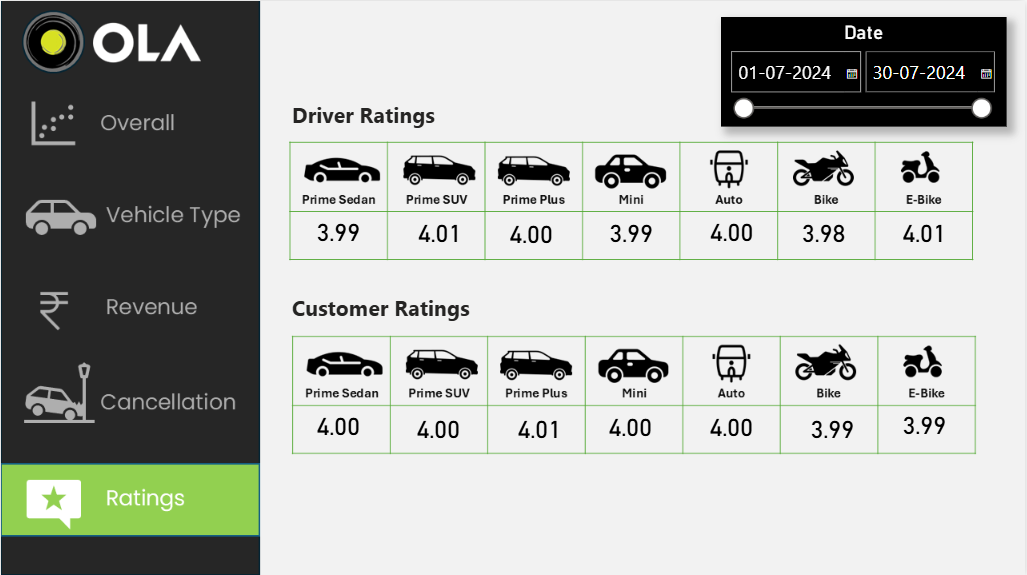

The dashboard page shown, as its layout file describes it:
{"tool":"powerbi","page":{"name":"Ratings","canvas":[1280,720],"ordinal":4},"visuals":[{"type":"actionButton","box":[0,218.5,324.8,89.6],"z":0},{"type":"actionButton","box":[0,341.6,324.8,89.6],"z":1000},{"type":"actionButton","box":[0,453.8,324.8,96.3],"z":2000},{"type":"actionButton","box":[0,575.2,324.8,98.8],"z":3000},{"type":"actionButton","box":[0,107.2,324.8,98.8],"z":4000},{"type":"card","title":"Total Bookings","fields":{"Values":["Avg(July.Driver_Ratings)"]},"box":[358.1,262.8,125.6,55.8],"z":5000},{"type":"card","title":"Total Bookings","fields":{"Values":["Avg(July.Driver_Ratings)"]},"box":[484.4,263.5,126.2,54.9],"z":6000},{"type":"card","title":"Total Bookings","fields":{"Values":["Avg(July.Driver_Ratings)"]},"box":[599.7,263.5,124.9,56.3],"z":7000},{"type":"card","title":"Total Bookings","fields":{"Values":["Avg(July.Driver_Ratings)"]},"box":[724.5,262.1,124.9,56.3],"z":8000},{"type":"card","title":"Total Bookings","fields":{"Values":["Avg(July.Driver_Ratings)"]},"box":[849.4,262.1,126.2,54.9],"z":9000},{"type":"card","title":"Total Bookings","fields":{"Values":["Avg(July.Driver_Ratings)"]},"box":[964.7,262.1,126.2,56.3],"z":10000},{"type":"card","title":"Total Bookings","fields":{"Values":["Avg(July.Driver_Ratings)"]},"box":[1090.9,262.1,124.9,56.3],"z":11000},{"type":"textbox","box":[358.6,118.6,398.6,51.4],"z":12000},{"type":"textbox","box":[358.6,360,398.6,51.4],"z":13000},{"type":"card","title":"Total Bookings","fields":{"Values":["Avg(July.Customer_Rating)"]},"box":[358.6,501.4,125.7,62.9],"z":14000},{"type":"card","title":"Total Bookings","fields":{"Values":["Avg(July.Customer_Rating)"]},"box":[484.3,508.6,125.7,55.7],"z":15000},{"type":"card","title":"Total Bookings","fields":{"Values":["Avg(July.Customer_Rating)"]},"box":[610,508.6,125.7,55.7],"z":16000},{"type":"card","title":"Total Bookings","fields":{"Values":["Avg(July.Customer_Rating)"]},"box":[724.3,505.7,125.7,55.7],"z":17000},{"type":"card","title":"Total Bookings","fields":{"Values":["Avg(July.Customer_Rating)"]},"box":[850,505.7,125.7,55.7],"z":18000},{"type":"card","title":"Total Bookings","fields":{"Values":["Avg(July.Customer_Rating)"]},"box":[975.7,508.6,125.7,55.7],"z":19000},{"type":"card","title":"Total Bookings","fields":{"Values":["Avg(July.Customer_Rating)"]},"box":[1091.4,504.3,125.7,55.7],"z":20000},{"type":"slicer","title":"Date","fields":{"Values":["July.Date"]},"box":[900,20,357.1,137.1],"z":21000}]}

Visuals, with their boxes in screenshot pixels (x1, y1, x2, y2), scaled from the page's 1280x720 canvas onto the 1027x575 screenshot:
actionButton: <box>0,174,261,246</box>
actionButton: <box>0,273,261,344</box>
actionButton: <box>0,362,261,439</box>
actionButton: <box>0,459,261,538</box>
actionButton: <box>0,86,261,165</box>
"Total Bookings" card: <box>287,210,388,254</box>
"Total Bookings" card: <box>389,210,490,254</box>
"Total Bookings" card: <box>481,210,581,255</box>
"Total Bookings" card: <box>581,209,682,254</box>
"Total Bookings" card: <box>682,209,783,253</box>
"Total Bookings" card: <box>774,209,875,254</box>
"Total Bookings" card: <box>875,209,975,254</box>
textbox: <box>288,95,608,136</box>
textbox: <box>288,288,608,329</box>
"Total Bookings" card: <box>288,400,389,451</box>
"Total Bookings" card: <box>389,406,489,451</box>
"Total Bookings" card: <box>489,406,590,451</box>
"Total Bookings" card: <box>581,404,682,448</box>
"Total Bookings" card: <box>682,404,783,448</box>
"Total Bookings" card: <box>783,406,884,451</box>
"Total Bookings" card: <box>876,403,977,447</box>
"Date" slicer: <box>722,16,1009,125</box>
